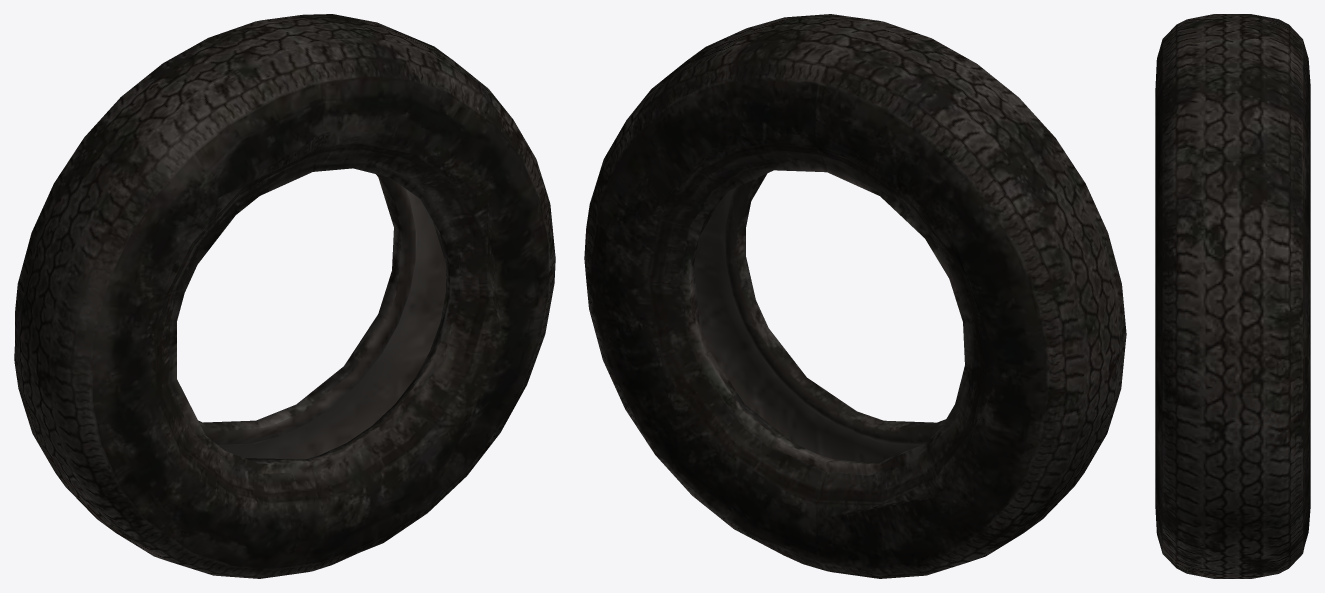
File: old_tyre.glb
3 renders of one model, left to right at view 1: azimuth 30°, elevation 25°; view 2: azimuth 150°, elevation 25°; view 3: azimuth 270°, elevation 25°, orthographic. The views are drawn at different scales.
Parts seen in each view (by area): view 1: old_tyre; view 2: old_tyre; view 3: old_tyre.
Boxes of the visible parts, x1,y1,x2,y2 form: old_tyre: (14,14,555,578); old_tyre: (584,14,1126,578); old_tyre: (1155,14,1310,578).
Bounding box in the file's own units: 0.6 × 0.6 × 0.165.
Materials: 1 (1 with a texture image).
